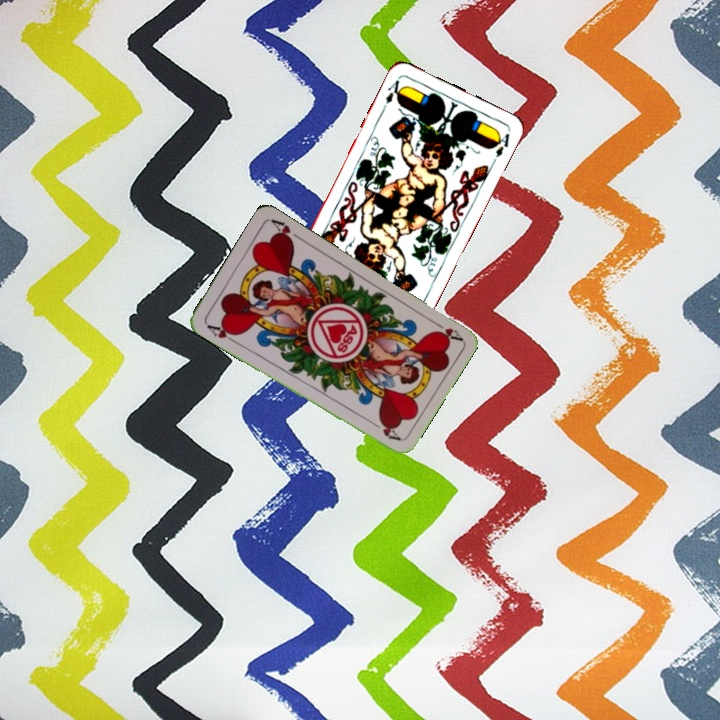EA: (379, 73, 406, 111)
HA: (427, 316, 464, 344), (202, 320, 241, 346)
